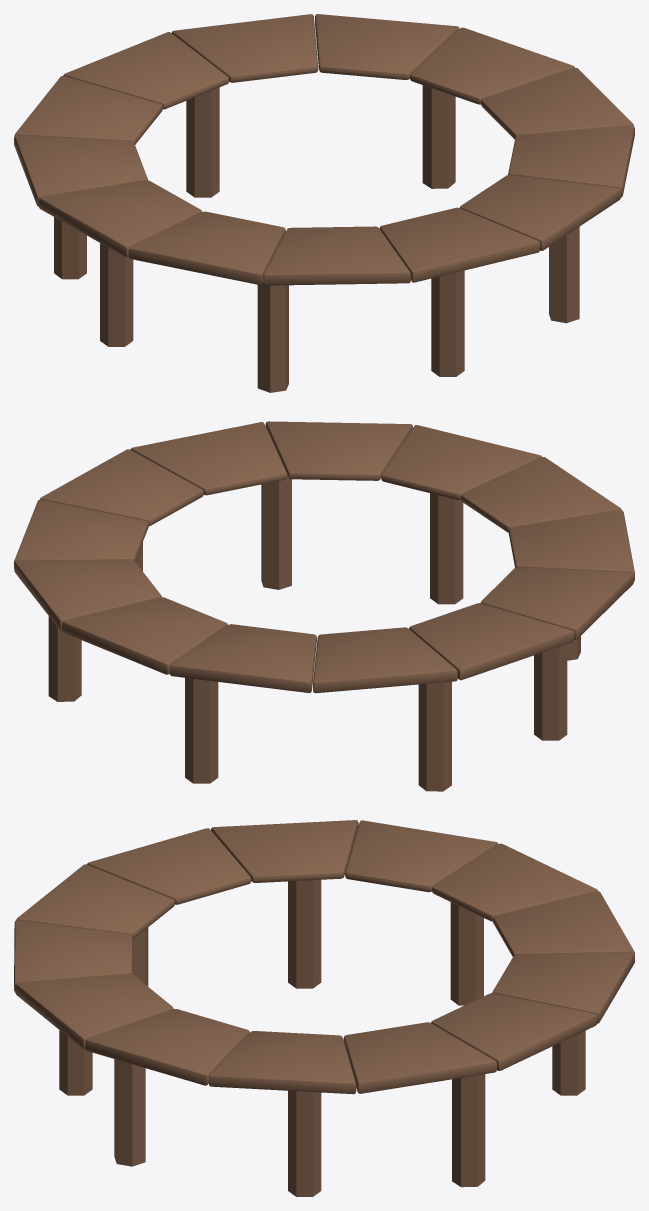
Rendered from Chair2.fbx.
3 renders of one model, top to bottom at view 1: azimuth 30°, elevation 25°; view 2: azimuth 150°, elevation 25°; view 3: azimuth 270°, elevation 25°, orthographic.
Parts seen in each view (by area): view 1: Cylinder; view 2: Cylinder; view 3: Cylinder.
Boxes of the visible parts, <box> form: Cylinder: <box>14,14,634,392</box>; Cylinder: <box>14,421,634,791</box>; Cylinder: <box>14,820,634,1196</box>.
Size of the model in its own units: 662 by 161 by 657.
